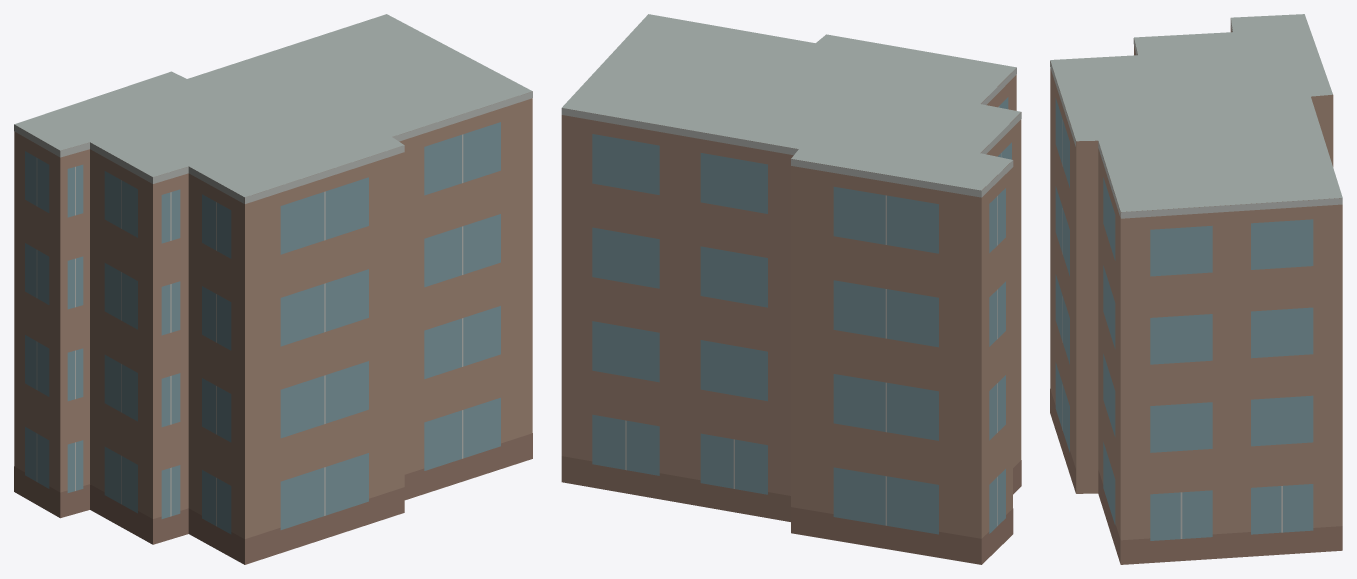
Rendered from survey-upis-33009036.glb.
3 views of the same model, side by side, from view 1: azimuth 30°, elevation 25°; view 2: azimuth 150°, elevation 25°; view 3: azimuth 270°, elevation 25° (orthographic). The views are drawn at different scales.
Parts seen in each view (by area): view 1: survey-upis-33009036.tmp; view 2: survey-upis-33009036.tmp; view 3: survey-upis-33009036.tmp.
Part boxes in pixels (x1,y1,x2,y2): survey-upis-33009036.tmp: (14,14,532,564); survey-upis-33009036.tmp: (561,14,1021,564); survey-upis-33009036.tmp: (1050,14,1342,564).
Bounding box in the file's own units: 15.67 × 13 × 9.79.
